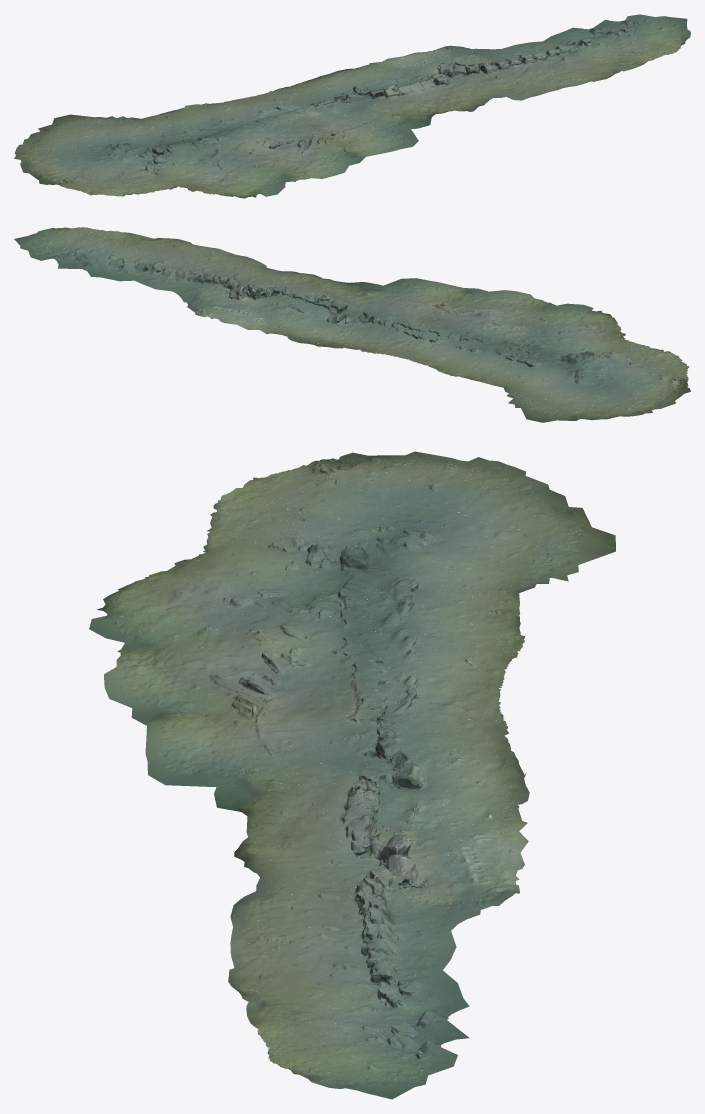
The model's file is whale-fall.5fbb94cd.glb.
3 views of the same model, one above another, from view 1: azimuth 30°, elevation 25°; view 2: azimuth 150°, elevation 25°; view 3: azimuth 270°, elevation 25° (orthographic). The views are drawn at different scales.
Parts seen in each view (by area): view 1: Model; view 2: Model; view 3: Model.
Part boxes in pixels (x1,y1,x2,y2): Model: (14,14,690,198); Model: (14,227,690,422); Model: (89,451,615,1099).
Size of the model in its own units: 20.19 by 0.4712 by 7.
4 materials, 4 textured.
